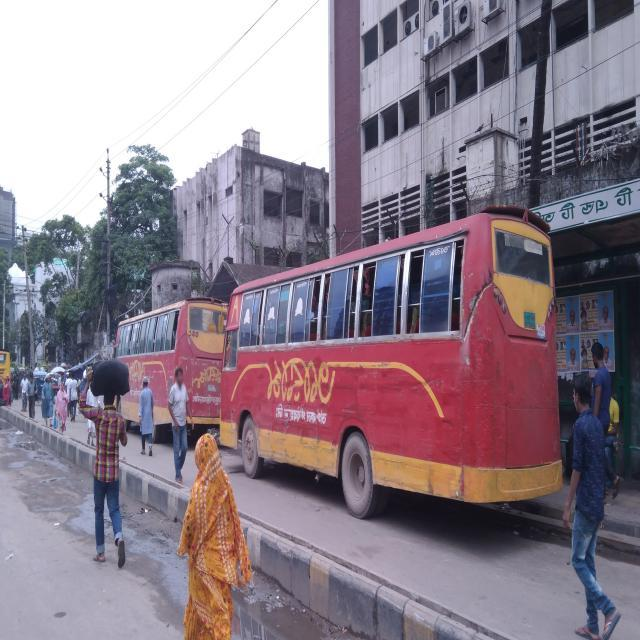Bus: (193, 187, 588, 534), (98, 282, 251, 469)
